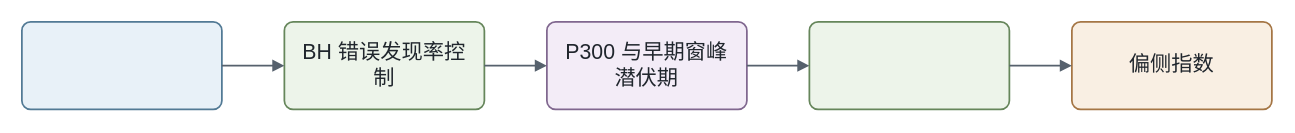
This 1295x133 diagram has some shape labels left out. The shapes that lost their labels are listed below. From the top down, each one's centre as x and y in pixels, then its label:
At [121,65]: "逐点单样本 t 检验".
At [909,65]: "三高斯分量最小二乘拟合".
